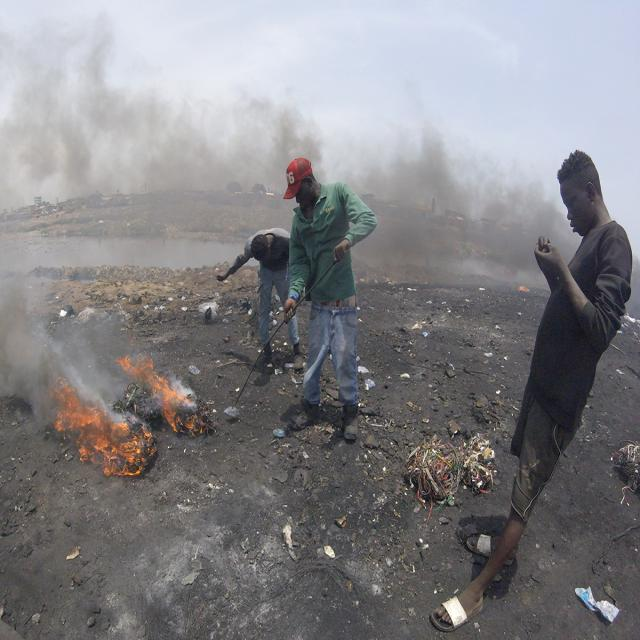fire: (69, 413, 144, 478)
smoke: (44, 99, 229, 208), (6, 315, 103, 383)
